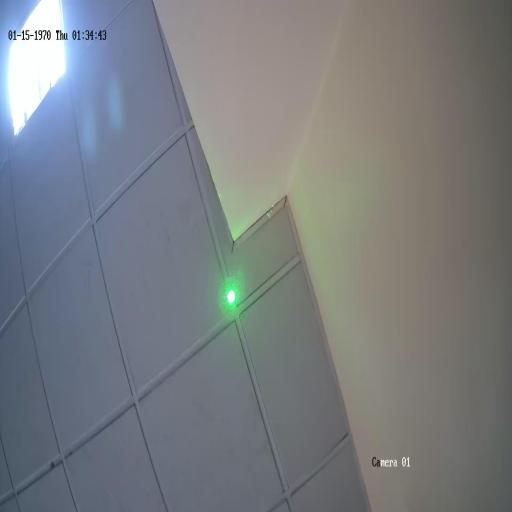laser: (216, 270, 245, 322)
